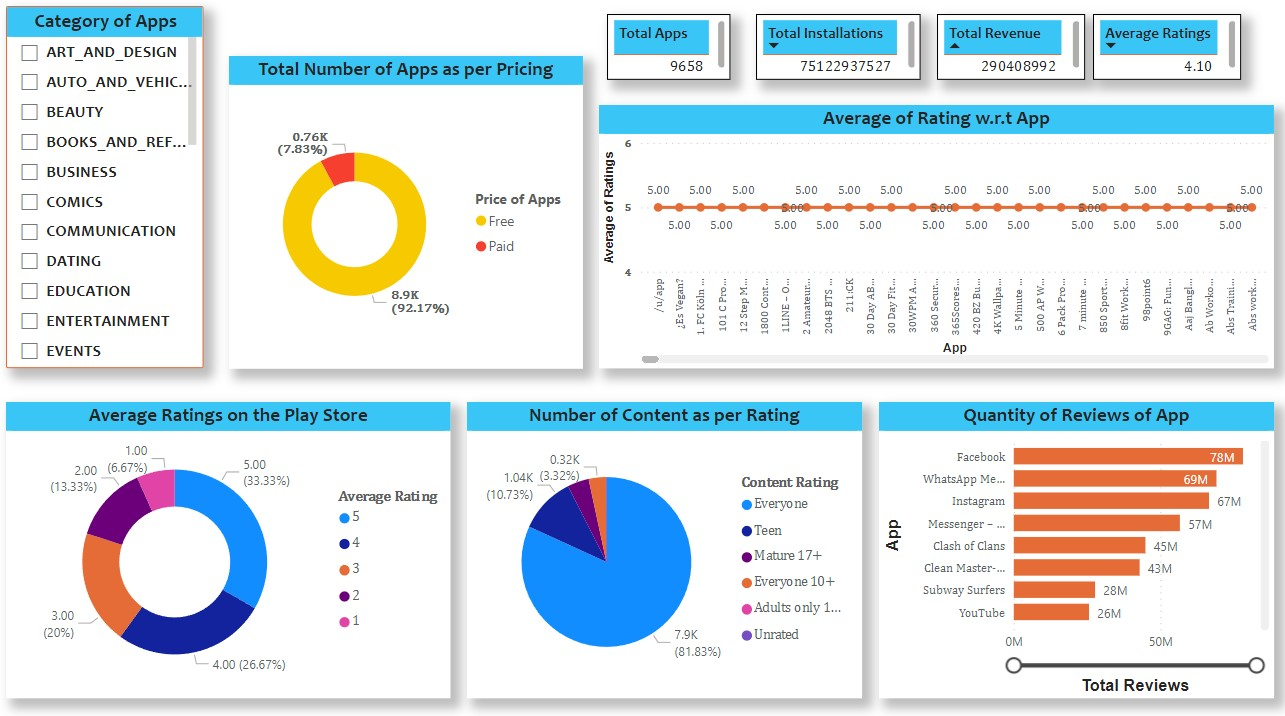

What the dashboard file says about the page in this screenshot:
{"tool":"powerbi","page":{"name":"Category-Wise Analysis","canvas":[1280,720],"ordinal":2},"visuals":[{"type":"slicer","title":"Category of Apps","fields":{"Values":["Google_data_cleaned.Category"]},"box":[16,16,192,352],"z":0},{"type":"donutChart","title":"Average Ratings on the Play Store","fields":{"Y":["Avg(Google_data_cleaned.rating)"],"Category":["Google_data_cleaned.rating"]},"box":[16,400.1,432,288],"z":1000},{"type":"pieChart","title":"Number of Content as per Rating","fields":{"Y":["CountNonNull(Google_data_cleaned.content_rating)"],"Category":["Google_data_cleaned.content_rating"]},"box":[464,400.1,384,288],"z":2000},{"type":"donutChart","title":"Total Number of Apps as per Pricing","fields":{"Y":["CountNonNull(Google_data_cleaned.App_Price)"],"Category":["Google_data_cleaned.App_Price"]},"box":[232,64,344,304],"z":3000},{"type":"barChart","title":"Quantity of Reviews of App","fields":{"Y":["Sum(Google_data_cleaned.reviews)"],"Category":["Google_data_cleaned.app"]},"box":[864,400.1,384,288],"z":4000},{"type":"tableEx","fields":{"Values":["Google_data_cleaned.Total Apps"]},"box":[600,23.3,120,64],"z":5000},{"type":"tableEx","fields":{"Values":["Google_data_cleaned.Total Installation"]},"box":[744,23.3,160,64],"z":6000},{"type":"tableEx","fields":{"Values":["Google_data_cleaned.Total revenue"]},"box":[920,23.3,144,64],"z":7000},{"type":"lineChart","title":"Average of Rating w.r.t App","fields":{"Category":["Google_data_cleaned.app"],"Y":["Avg(Google_data_cleaned.rating)"]},"box":[592,111.9,656,256],"z":8000},{"type":"tableEx","fields":{"Values":["Avg(Google_data_cleaned.rating)"]},"box":[1072,23.3,144,64],"z":9000}]}

Visuals, with their boxes in screenshot pixels (x1, y1, x2, y2), scaled from the page's 1280x720 canvas onto the 1285x716 screenshot:
"Category of Apps" slicer: <region>16, 16, 209, 366</region>
"Average Ratings on the Play Store" donutChart: <region>16, 398, 450, 684</region>
"Number of Content as per Rating" pieChart: <region>466, 398, 851, 684</region>
"Total Number of Apps as per Pricing" donutChart: <region>233, 64, 578, 366</region>
"Quantity of Reviews of App" barChart: <region>867, 398, 1253, 684</region>
tableEx - Google_data_cleaned.Total Apps: <region>602, 23, 723, 87</region>
tableEx - Google_data_cleaned.Total Installation: <region>747, 23, 908, 87</region>
tableEx - Google_data_cleaned.Total revenue: <region>924, 23, 1068, 87</region>
"Average of Rating w.r.t App" lineChart: <region>594, 111, 1253, 366</region>
tableEx - Avg(Google_data_cleaned.rating): <region>1076, 23, 1221, 87</region>
